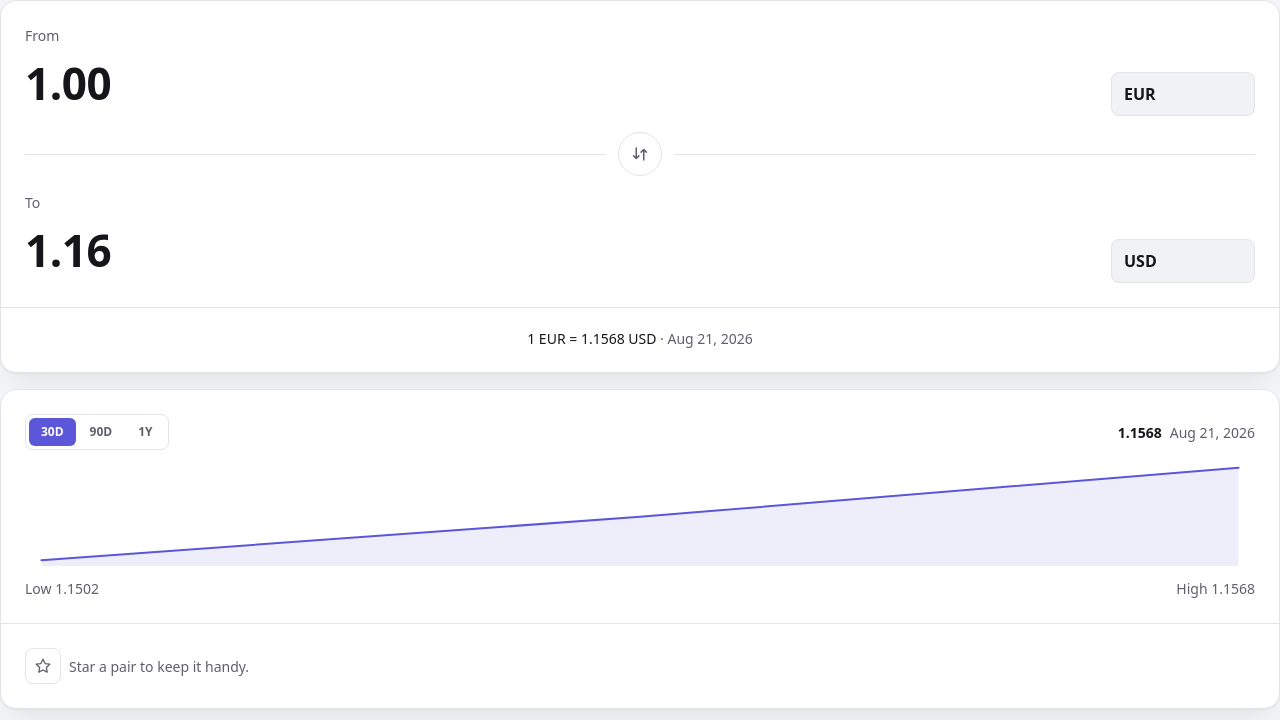
Test: ConverterCard › swaps the pair
Expected: the field with id "amount-to" holds "1.16", [25, 217, 1095, 283]
Click the button with class "swap" at (640, 154), box [618, 132, 662, 176]
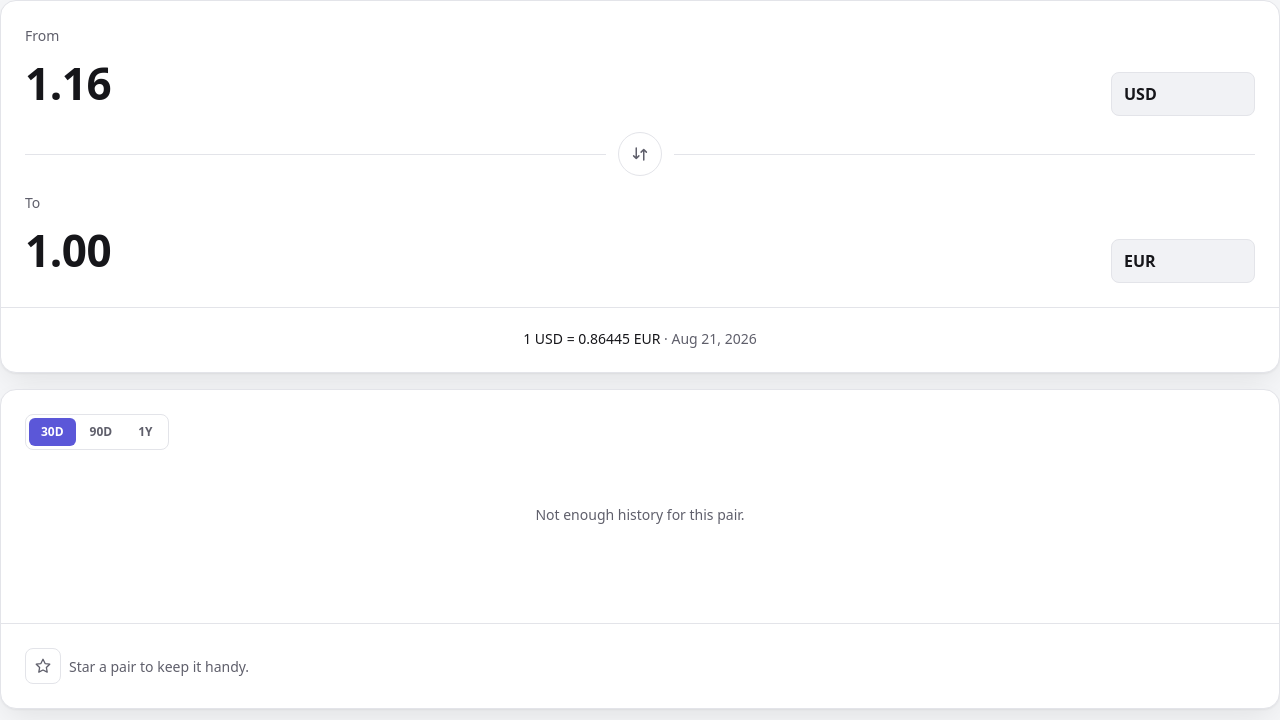
Expected: the text "1 USD =" is shown, [523, 328, 664, 348]
